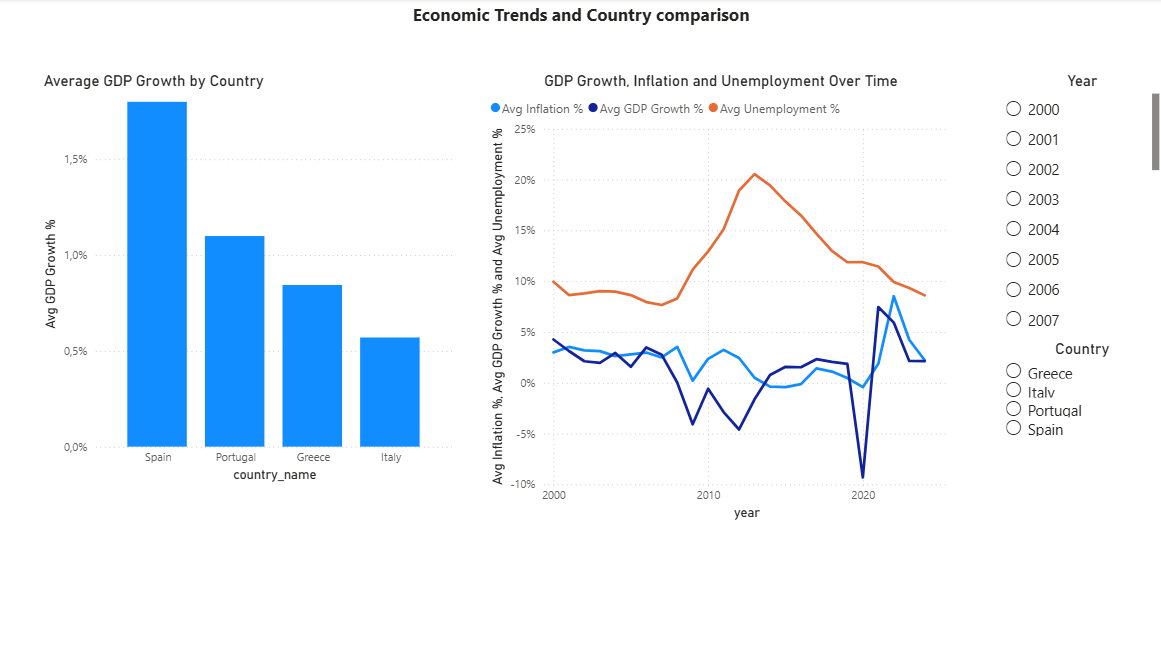

The page's visual inventory and layout, read from the dashboard file:
{"tool":"powerbi","page":{"name":"Page 3","canvas":[1280,720],"ordinal":2},"visuals":[{"type":"lineChart","title":"GDP Growth, Inflation and Unemployment Over Time","fields":{"Category":["southern_europe_economy economic_indicators.year"],"Y":["southern_europe_economy economic_indicators.Avg Inflation %","southern_europe_economy economic_indicators.Avg GDP Growth %","southern_europe_economy economic_indicators.Avg Unemployment %"]},"box":[535.2,81,517.3,496.7],"z":0},{"type":"clusteredColumnChart","title":"Average GDP Growth by Country","fields":{"Category":["southern_europe_economy economic_indicators.country_name"],"Y":["southern_europe_economy economic_indicators.Avg GDP Growth %"]},"box":[45.3,81,459.7,455.6],"z":1000},{"type":"listSlicer","title":"Country","fields":{"Values":["southern_europe_economy economic_indicators.country_name"]},"box":[1100.5,374.6,179.8,203.1],"z":2000},{"type":"listSlicer","title":"Year","fields":{"Values":["southern_europe_economy economic_indicators.year"]},"box":[1100.5,81,179.8,293.7],"z":3000},{"type":"textbox","box":[323.7,0,632.6,50.8],"z":3001}]}

Visuals, with their boxes in screenshot pixels (x1, y1, x2, y2), scaled from the page's 1280x720 canvas onto the 1161x652 screenshot:
"GDP Growth, Inflation and Unemployment Over Time" lineChart: l=485, t=73, r=955, b=523
"Average GDP Growth by Country" clusteredColumnChart: l=41, t=73, r=458, b=486
"Country" listSlicer: l=998, t=339, r=1160, b=523
"Year" listSlicer: l=998, t=73, r=1160, b=339
textbox: l=294, t=0, r=867, b=46
